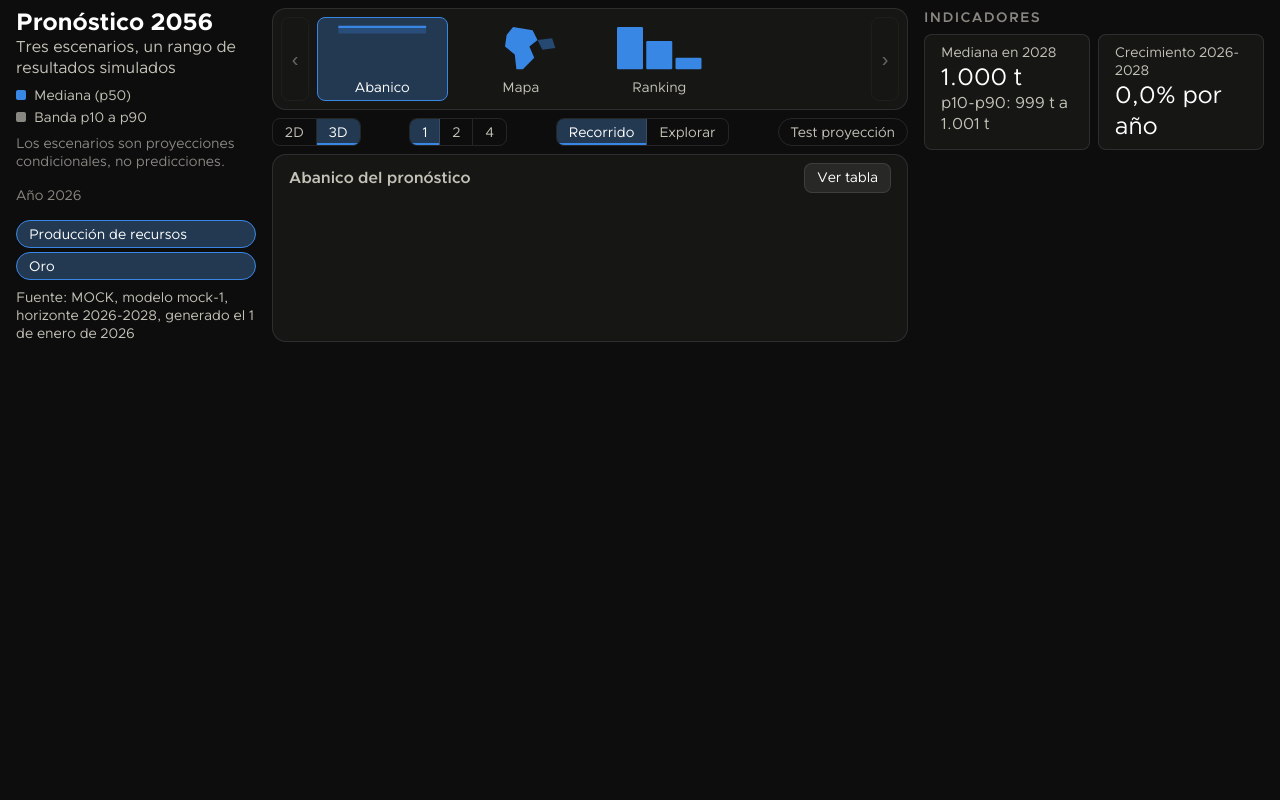
Scenario: Forecast scene: province map › shows the geometry source and attribution next to the forecast source line
expect the heading "Pronóstico 2056" is shown: met, box top-left (16, 8), bottom-right (213, 37)
Click the button "Mapa" at (521, 59), box top-left (456, 17), bottom-right (586, 101)
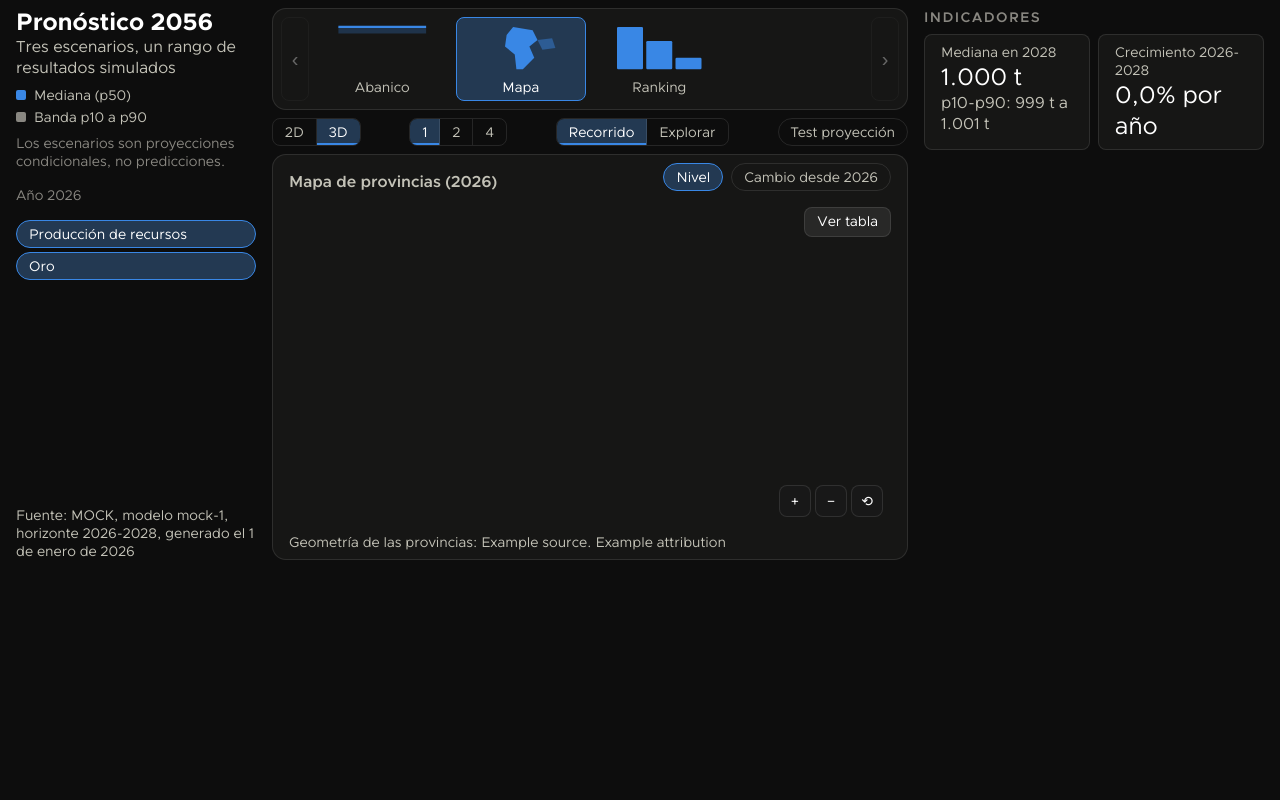
expect the text "Fuente: MOCK, modelo mock-1, horizonte 2026-2028, generado el 1 de enero de 2026" is shown: met, box top-left (16, 506), bottom-right (256, 560)
expect the text "Geometría de las provincias: Example source. Example attribution" is shown: met, box top-left (289, 533), bottom-right (726, 551)
